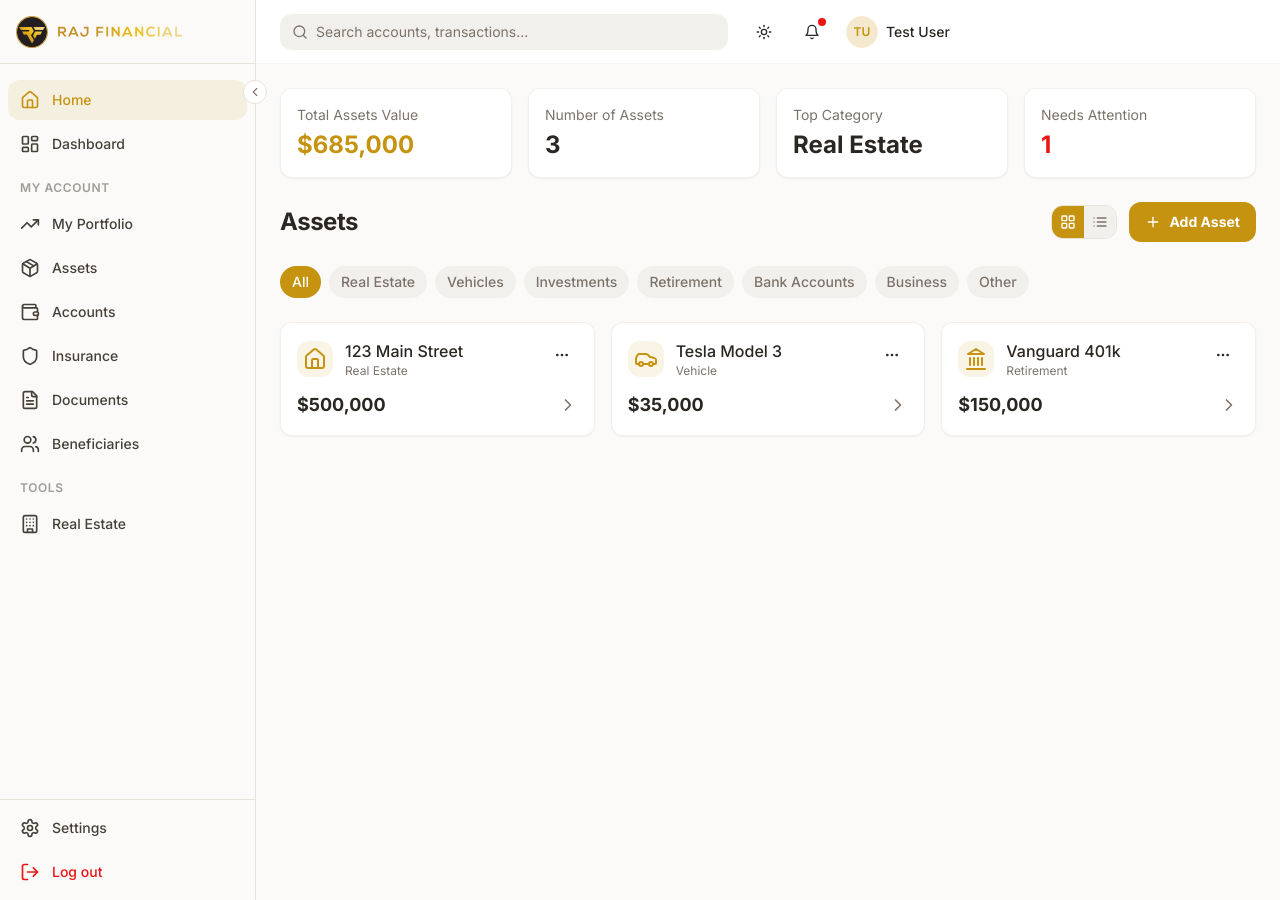
Scenario: Assets Page — View Toggle › switches to table view when table button is clicked
Click the button named "Table view": [1100, 222] box left=1084, top=206, right=1116, bottom=238
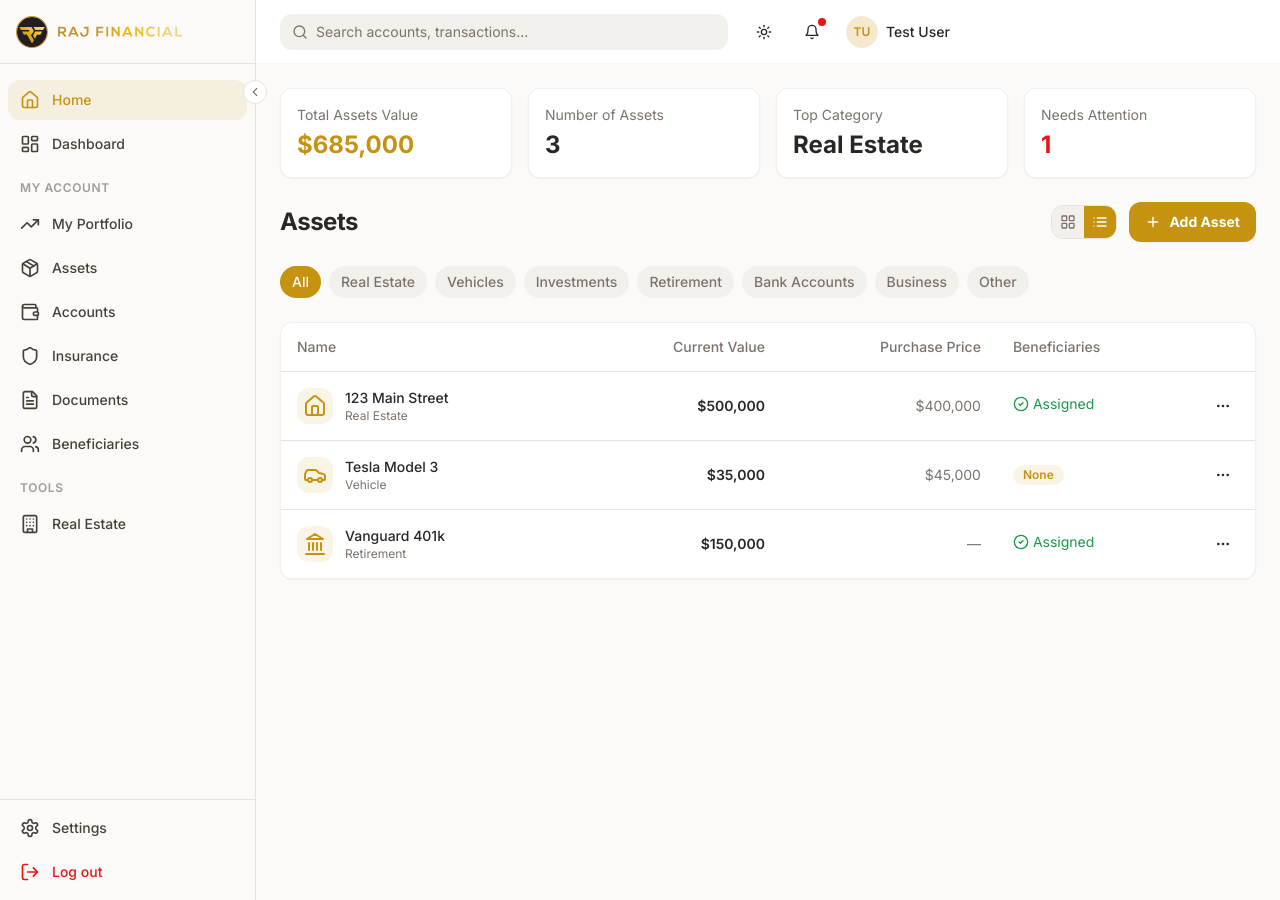
Result: the column heading "Name" is shown at left=281, top=323, right=580, bottom=371
Result: the column heading "Current Value" is shown at left=580, top=323, right=781, bottom=371
